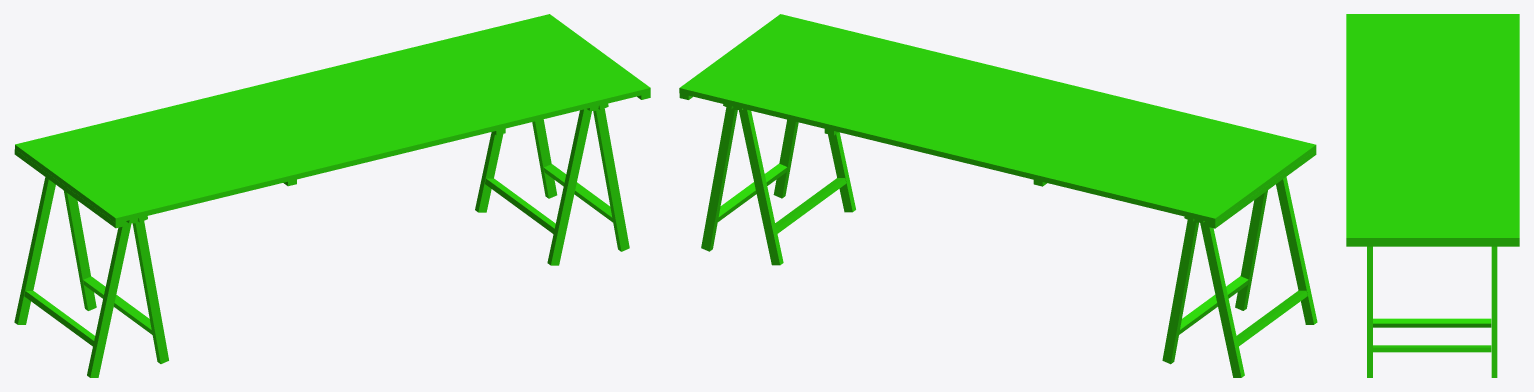
Rendered from Trestle_Table_01_Lod0.fbx.
3 views of the same model, side by side, from view 1: azimuth 30°, elevation 25°; view 2: azimuth 150°, elevation 25°; view 3: azimuth 270°, elevation 25° (orthographic). The views are drawn at different scales.
Parts seen in each view (by area): view 1: Trestle_Table_01_Lod0; view 2: Trestle_Table_01_Lod0; view 3: Trestle_Table_01_Lod0.
Boxes of the visible parts, x1,y1,x2,y2 form: Trestle_Table_01_Lod0: (14,14,650,377); Trestle_Table_01_Lod0: (679,14,1317,377); Trestle_Table_01_Lod0: (1346,14,1519,377).
Bounding box in the file's own units: 267 × 78.42 × 84.96.
